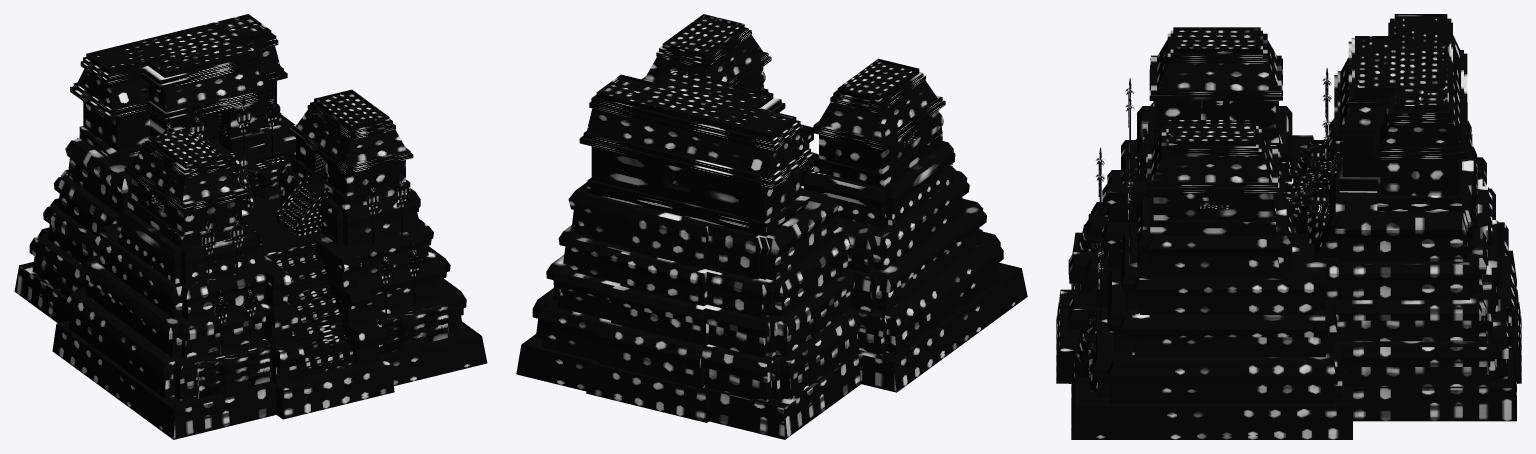
File: fortress_1.dae
3 views of the same model, side by side, from view 1: azimuth 30°, elevation 25°; view 2: azimuth 150°, elevation 25°; view 3: azimuth 270°, elevation 25° (orthographic). The views are drawn at different scales.
Parts seen in each view (by area): view 1: fortress_1; view 2: fortress_1; view 3: fortress_1.
Boxes of the visible parts, x1,y1,x2,y2 form: fortress_1: (14, 14, 487, 439); fortress_1: (516, 14, 1027, 439); fortress_1: (1056, 14, 1521, 439).
Size of the model in its own units: 27.94 by 30.86 by 21.24.
